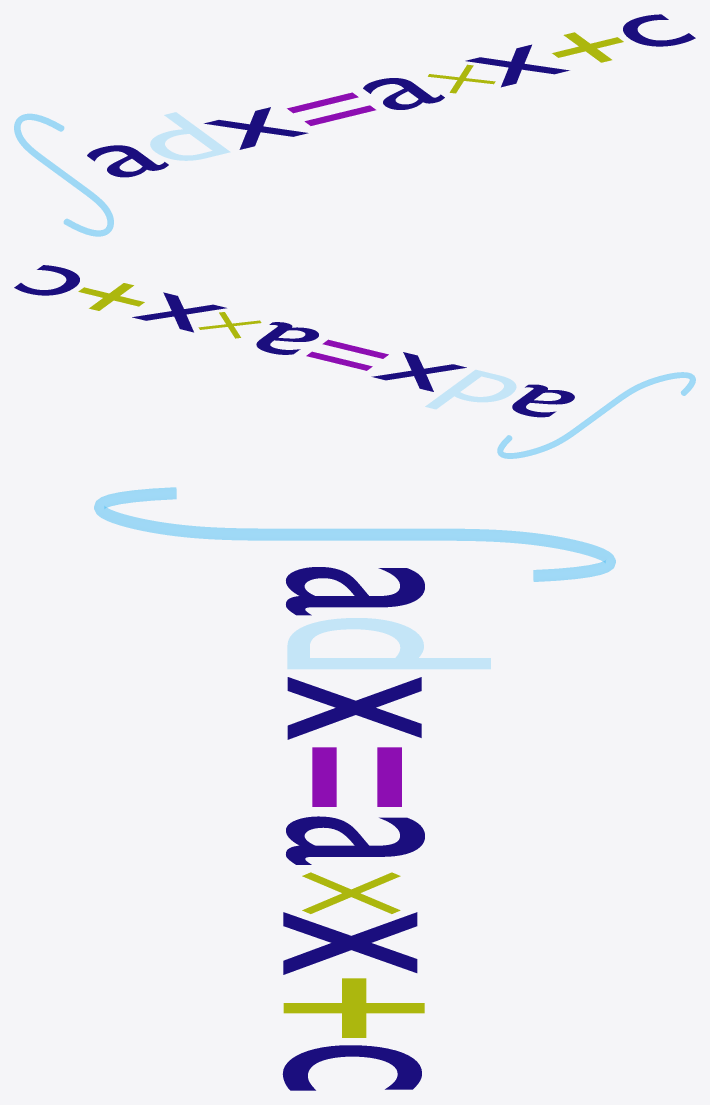
Rendered from inta.glb.
The picture shows the model from 3 angles, top to bottom: view 1: azimuth 30°, elevation 25°; view 2: azimuth 150°, elevation 25°; view 3: azimuth 270°, elevation 25°; orthographic projection. The views are drawn at different scales.
Parts seen in each view (by area): view 1: integrala din a dx; view 2: integrala din a dx; view 3: integrala din a dx.
Part boxes in pixels (bbox=[...]): integrala din a dx: bbox=[14, 14, 695, 236]; integrala din a dx: bbox=[14, 265, 695, 458]; integrala din a dx: bbox=[94, 487, 615, 1090].
Bounding box in the file's own units: 4.76 × 0.0401 × 1.75.
